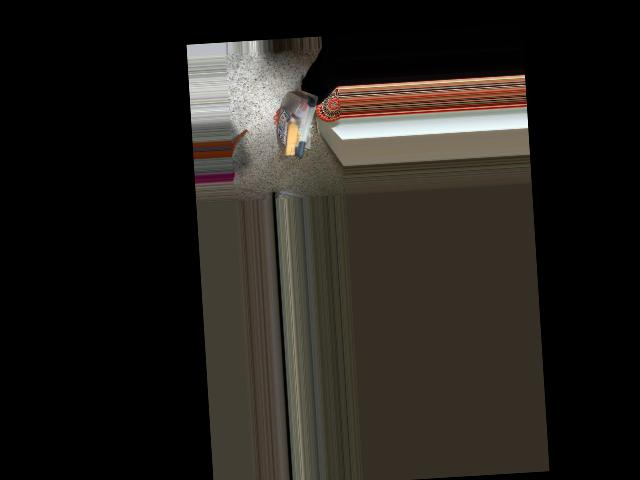cheese: (274, 89, 327, 162)
